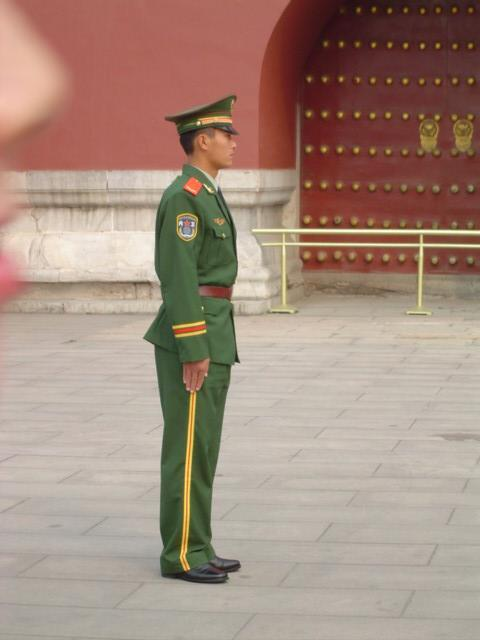up: (146, 89, 259, 592)
